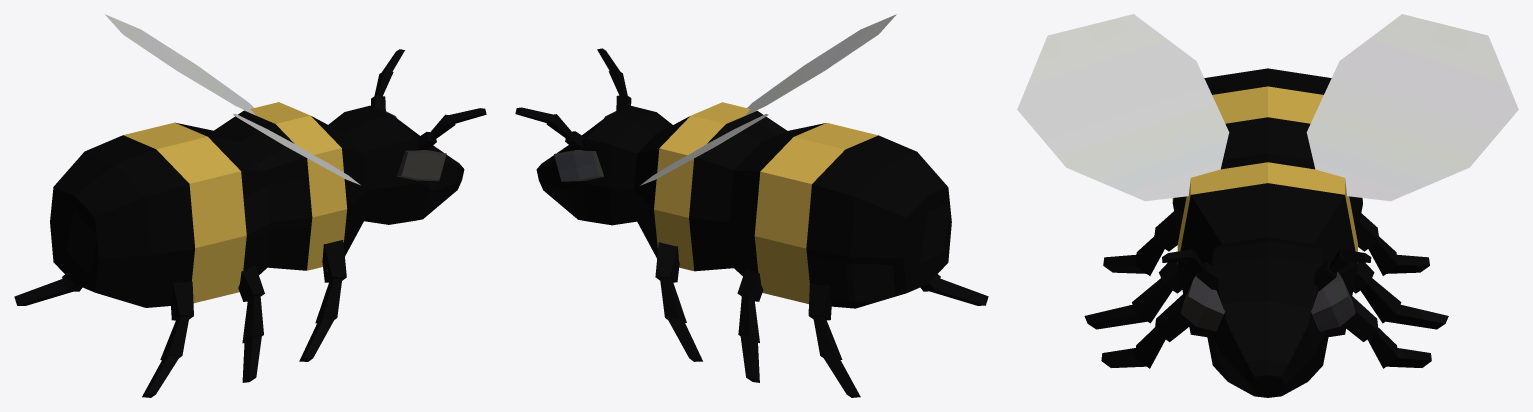
Rendered from CHAHIN_BUMBLEBEE.gltf.
3 renders of one model, left to right at view 1: azimuth 30°, elevation 25°; view 2: azimuth 150°, elevation 25°; view 3: azimuth 270°, elevation 25°, orthographic. The views are drawn at different scales.
Visible parts, largest first — view 1: node-0; view 2: node-0; view 3: node-0.
Part boxes in pixels (box(x1,y1,x2,y2)): node-0: box(14, 14, 486, 397); node-0: box(515, 14, 988, 397); node-0: box(1017, 14, 1518, 397).
Size of the model in its own units: 0.7608 by 0.4845 by 0.7008.
Materials: 1 (1 with a texture image).
